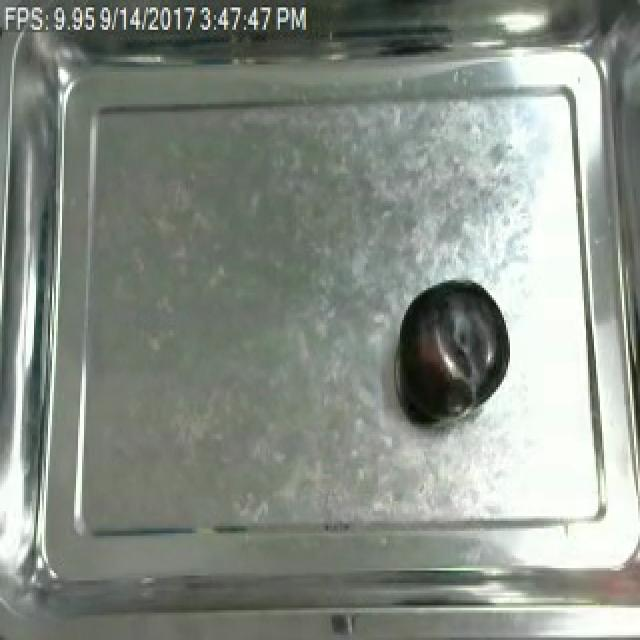Fruit: (392, 275, 512, 429)
